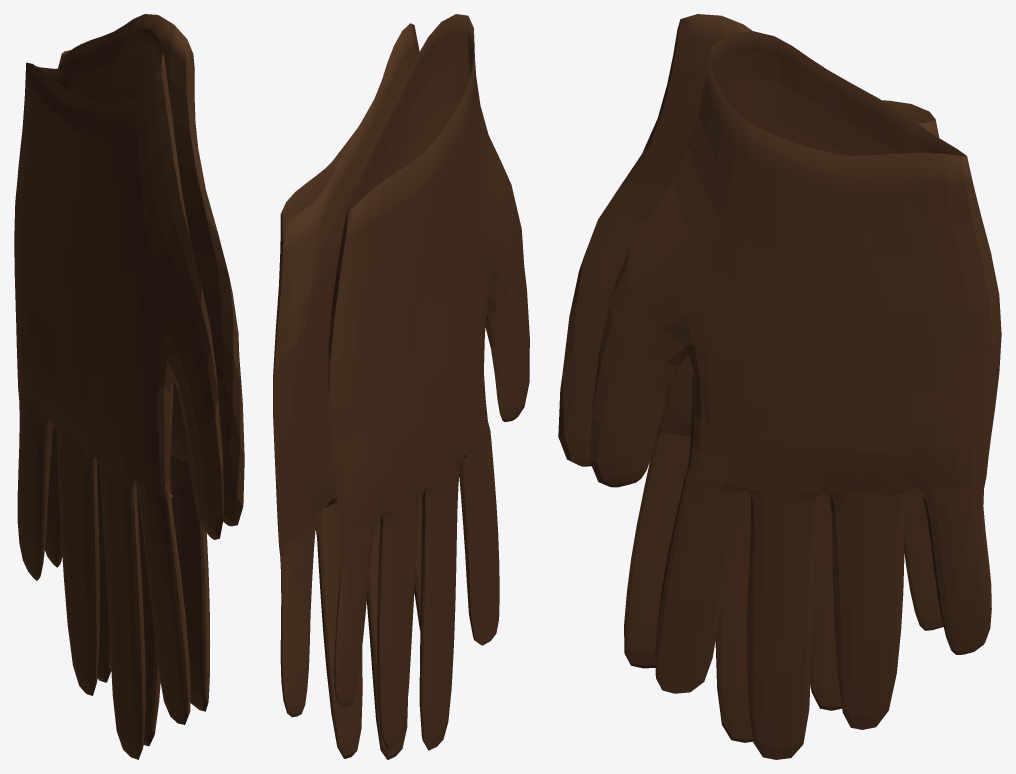
File: guanti.fbx
The picture shows the model from 3 angles, left to right: view 1: azimuth 30°, elevation 25°; view 2: azimuth 150°, elevation 25°; view 3: azimuth 270°, elevation 25°; orthographic projection. The views are drawn at different scales.
Visible parts, largest first — view 1: Plane; view 2: Plane; view 3: Plane.
Boxes of the visible parts, x1,y1,x2,y2 form: Plane: (14,14,244,759); Plane: (273,14,529,759); Plane: (558,14,1001,759).
Bounding box in the file's own units: 28.9 × 251 × 137.
